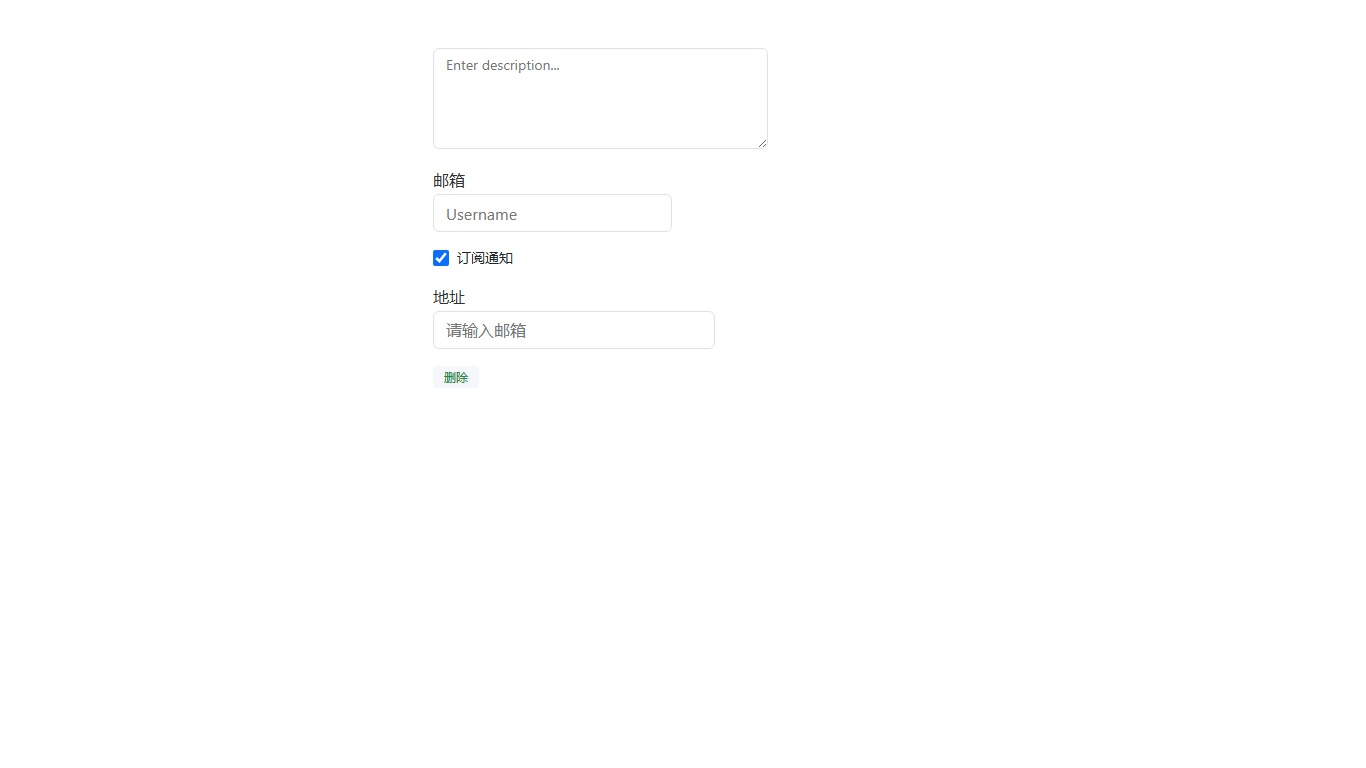button: (433, 365, 479, 387)
checkbox: (433, 249, 449, 265)
icon: (457, 248, 513, 267)
input: (433, 310, 715, 348), (433, 194, 672, 232)
radio: (433, 248, 513, 267)
textarea: (433, 48, 768, 149)
